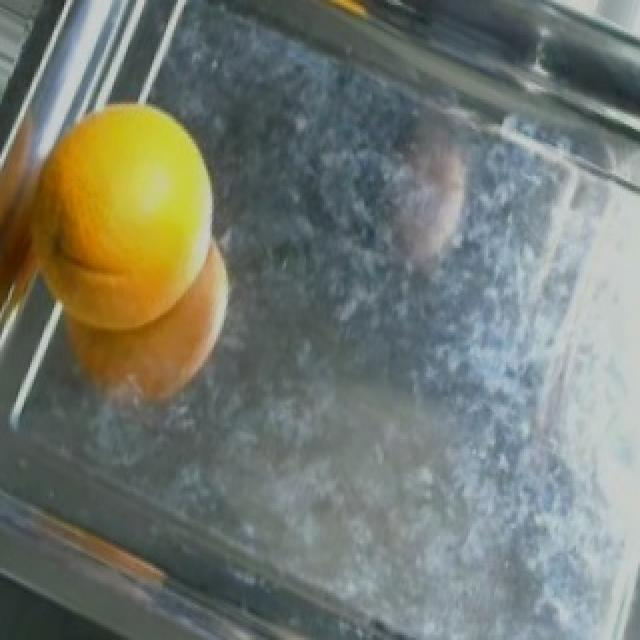Fruit: (2, 80, 250, 424)
